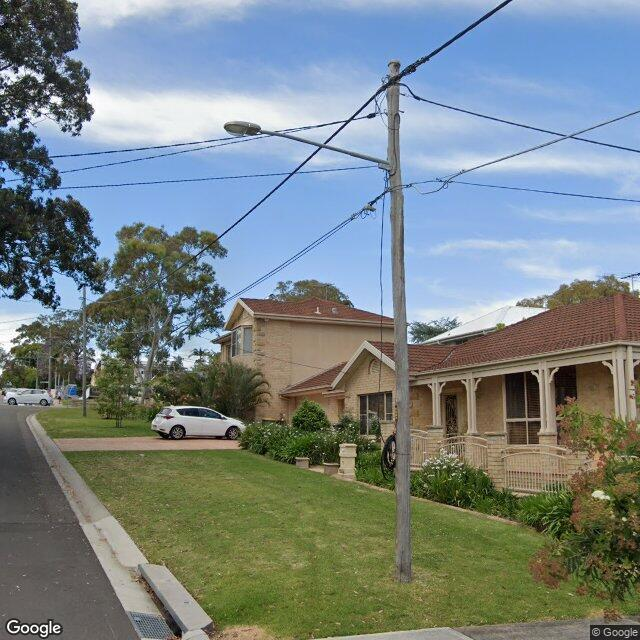streetlight: (224, 121, 390, 171)
timber-pole: (387, 61, 412, 584), (81, 283, 88, 417), (48, 328, 52, 394)
